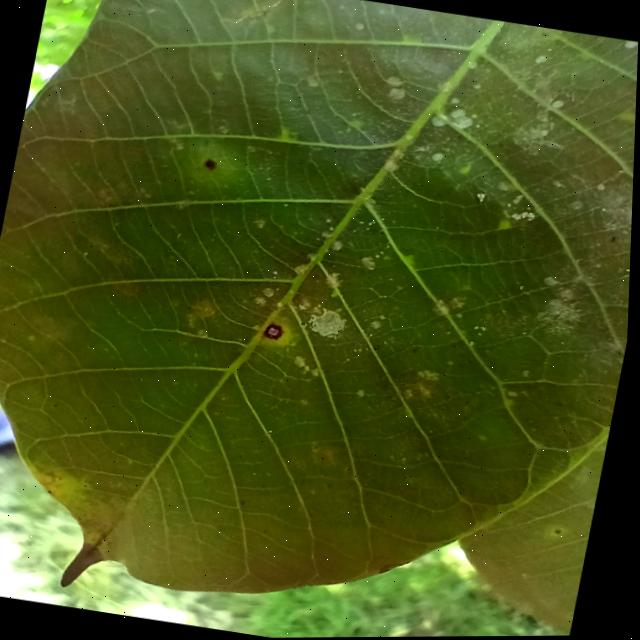Colletotrichum: (265, 323, 287, 342), (204, 160, 219, 172)
